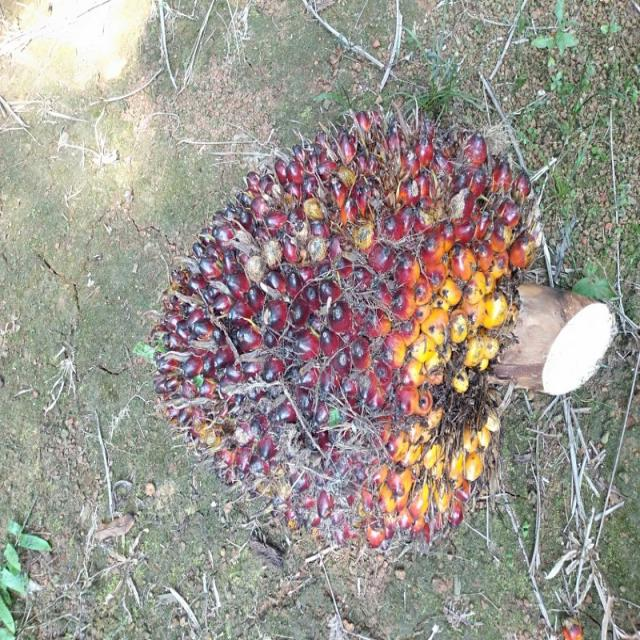fraksi 1: (148, 114, 542, 542)
